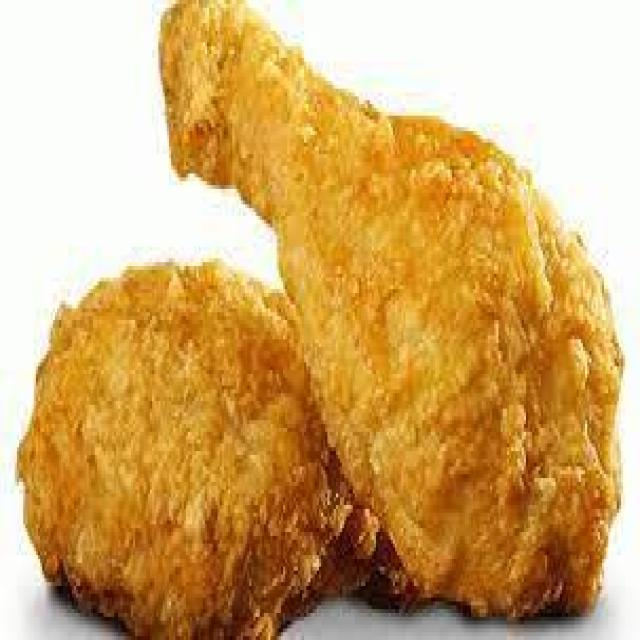Frango: (154, 0, 640, 625), (19, 254, 560, 640)
